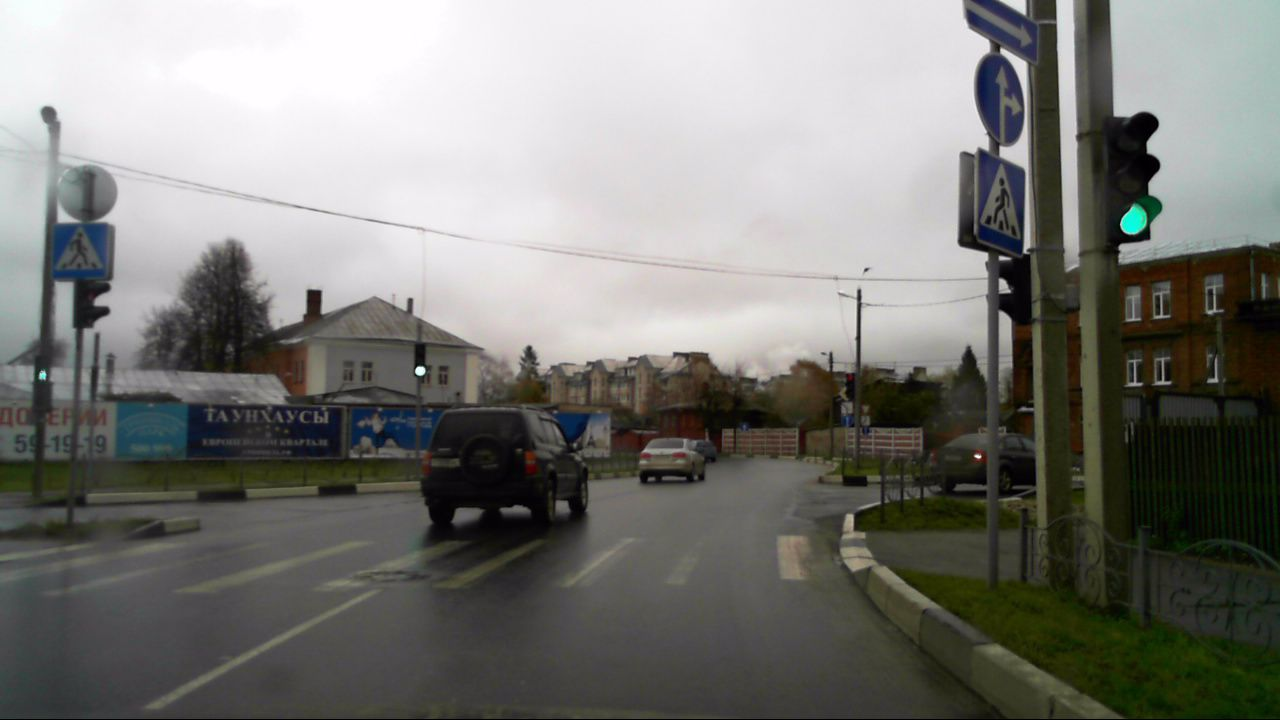One-Way Traffic: (963, 1, 1037, 55)
Pedestrian Crossing: (979, 150, 1024, 256)
